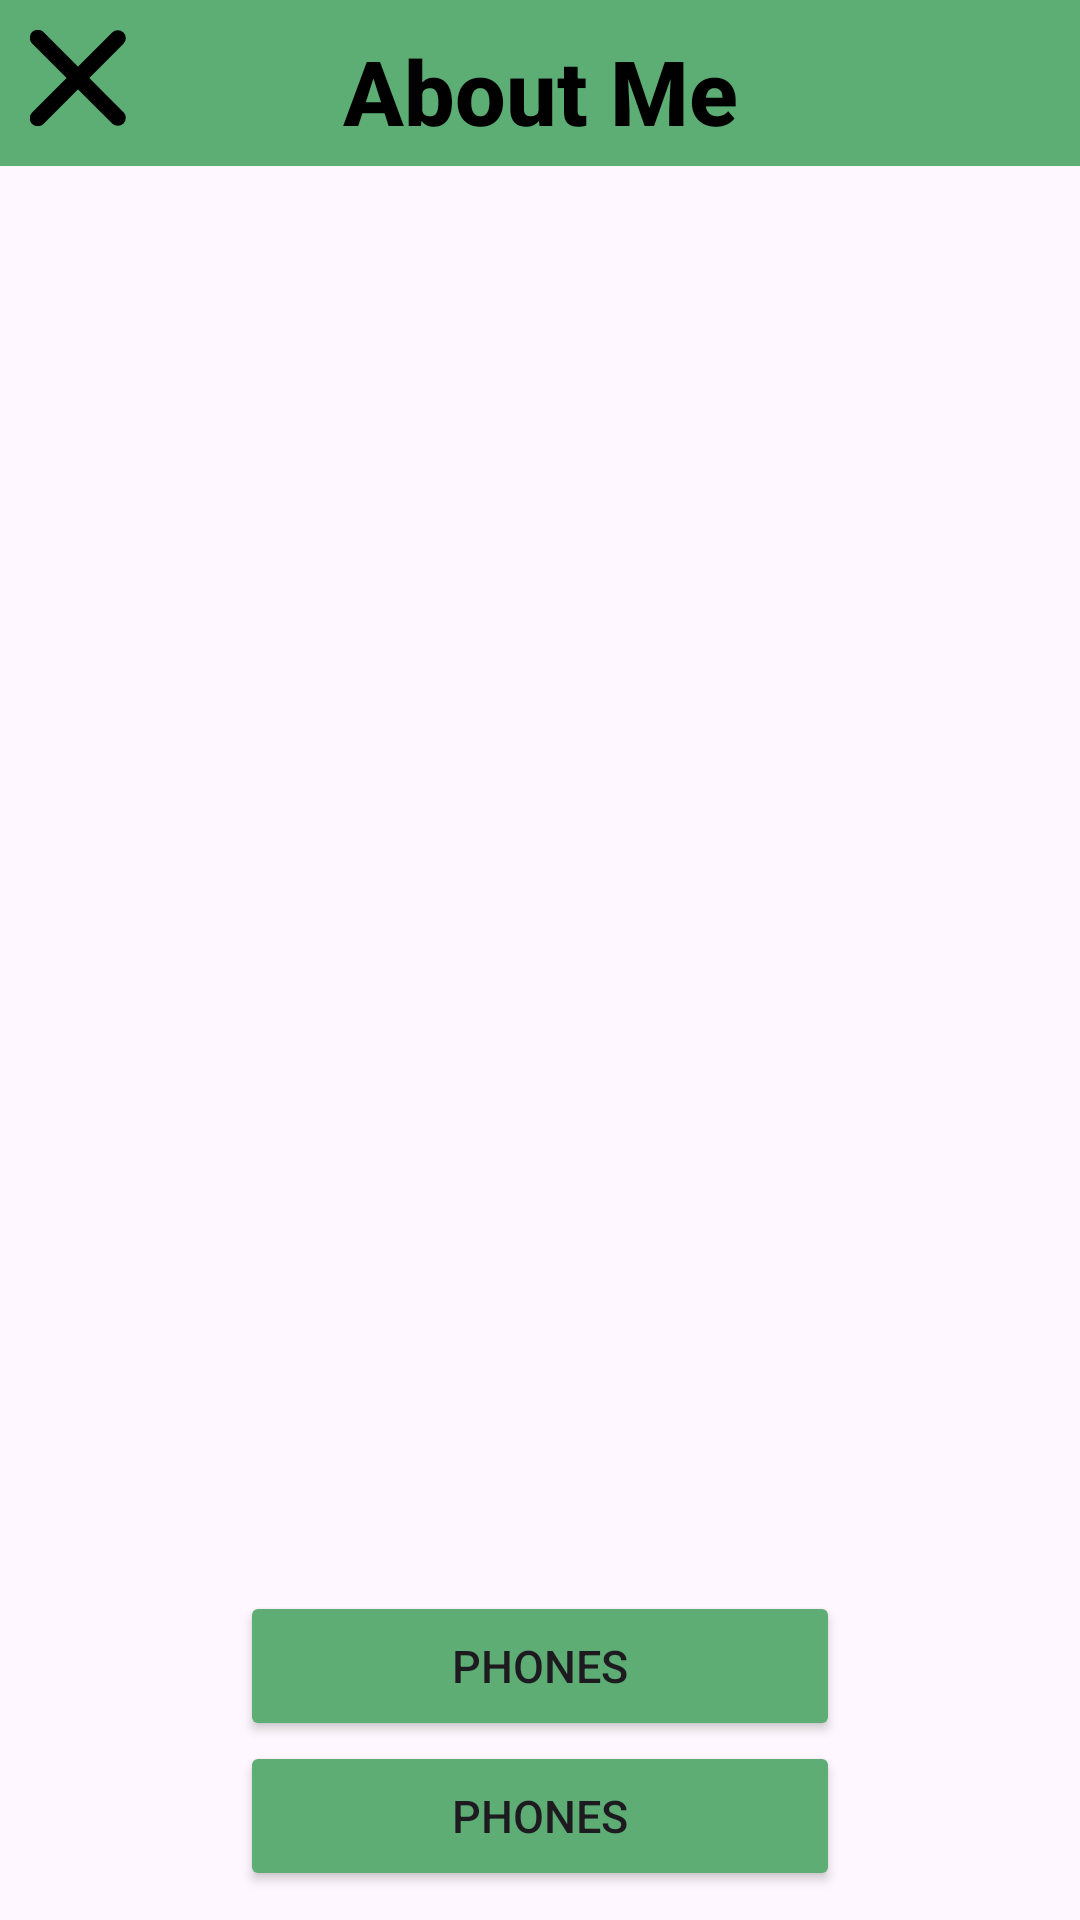

Screen size 1080px×1920px. Icon name, then its box in pixels as (x1, y1, x2, y2):
close: (30, 30, 126, 126)
